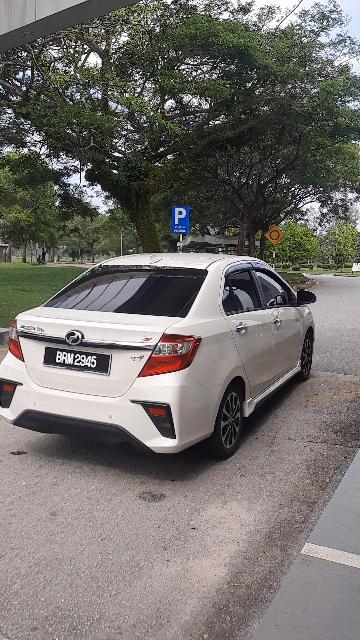License_Plate: (43, 347, 114, 378)
car: (1, 246, 321, 472)
